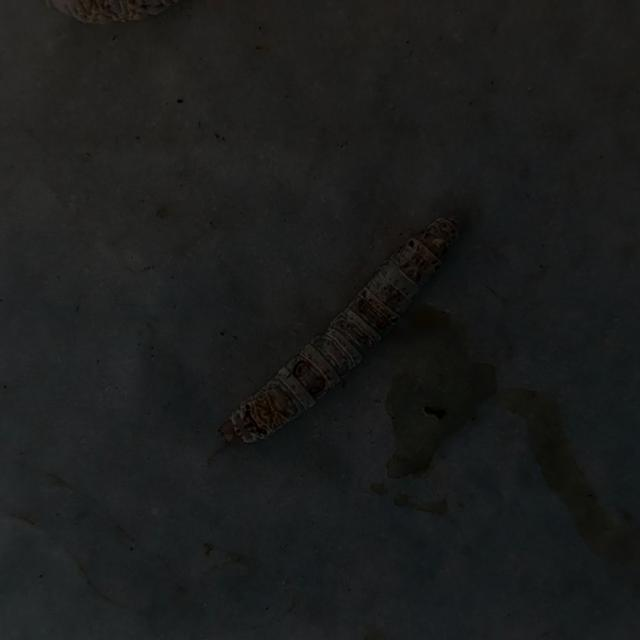Grasserie: (193, 194, 489, 466)
